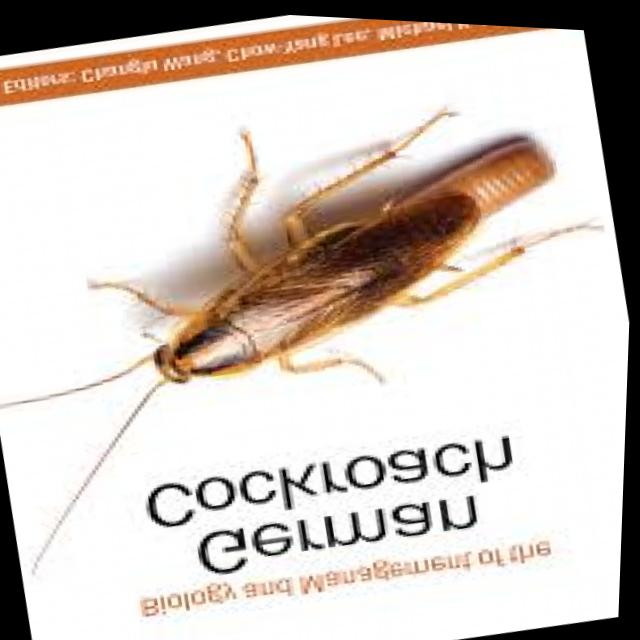Cockroach: (0, 32, 639, 525)
